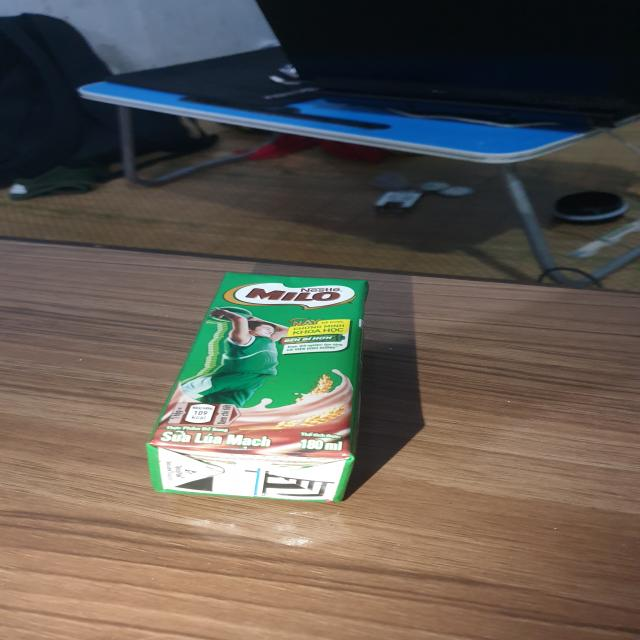Milo: (156, 273, 365, 511)
